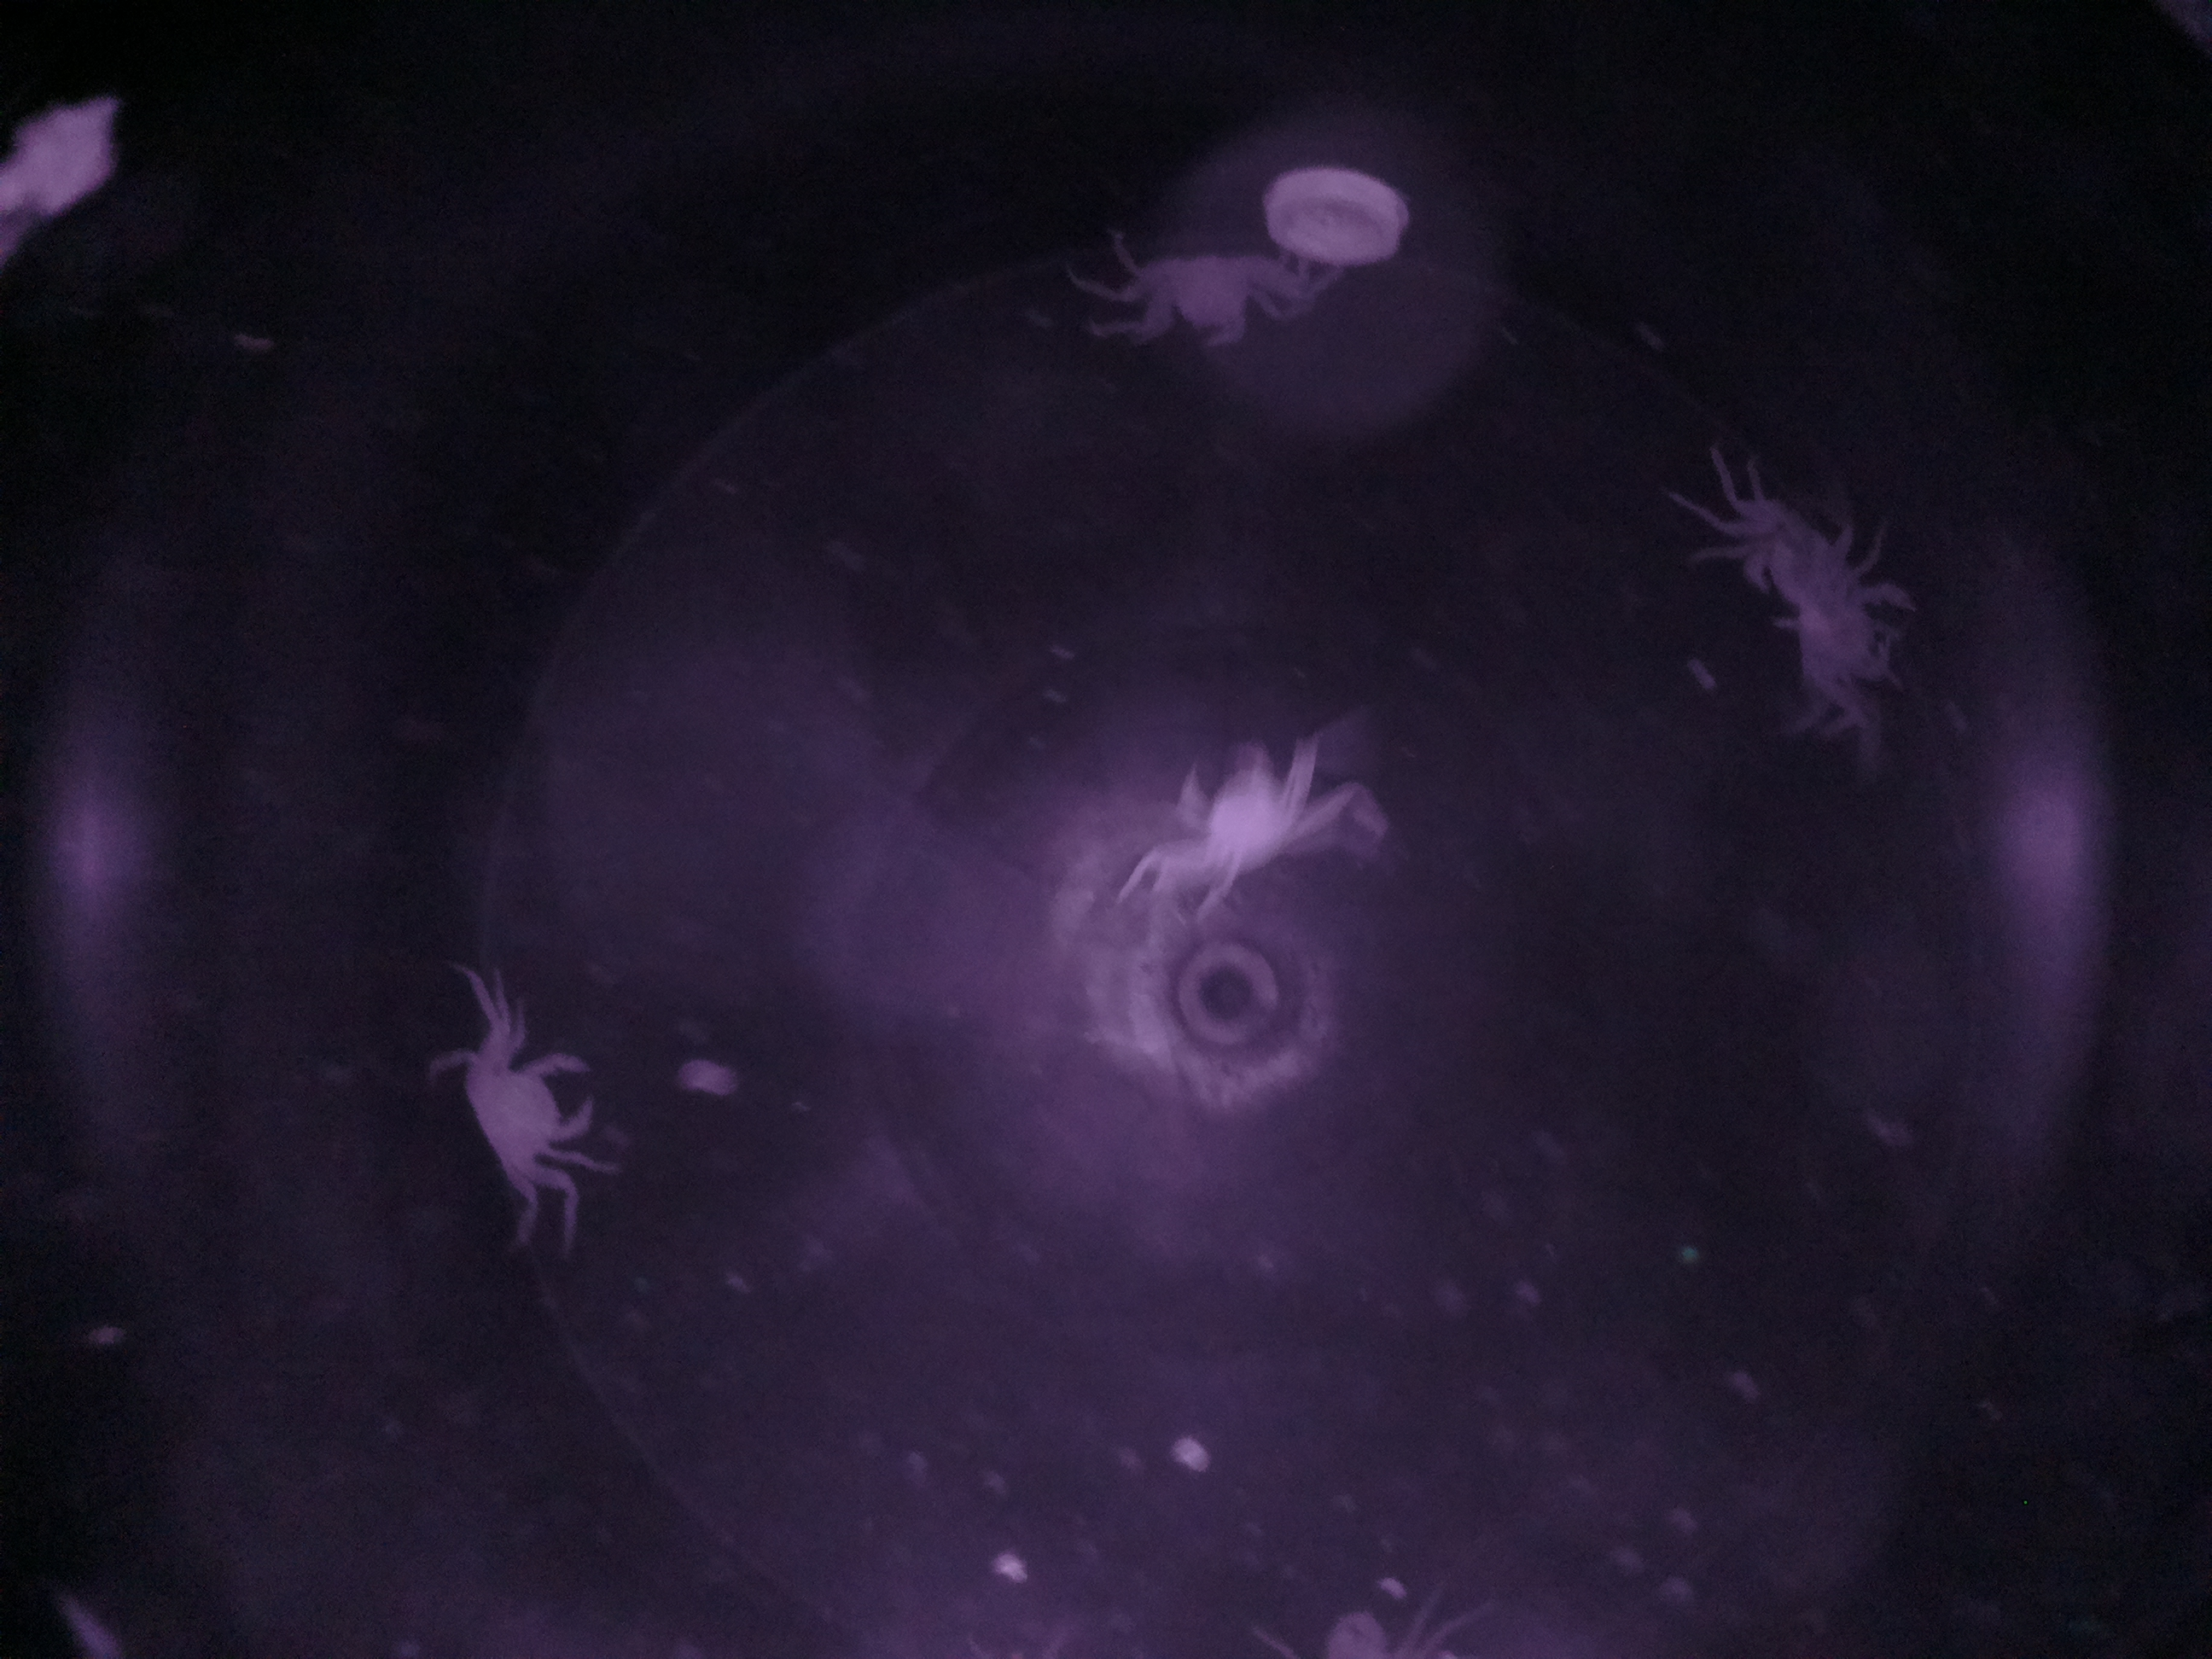Crab: (430, 1037, 618, 1204)
